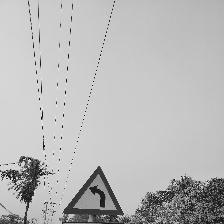Left-Turn: (60, 163, 128, 224)
